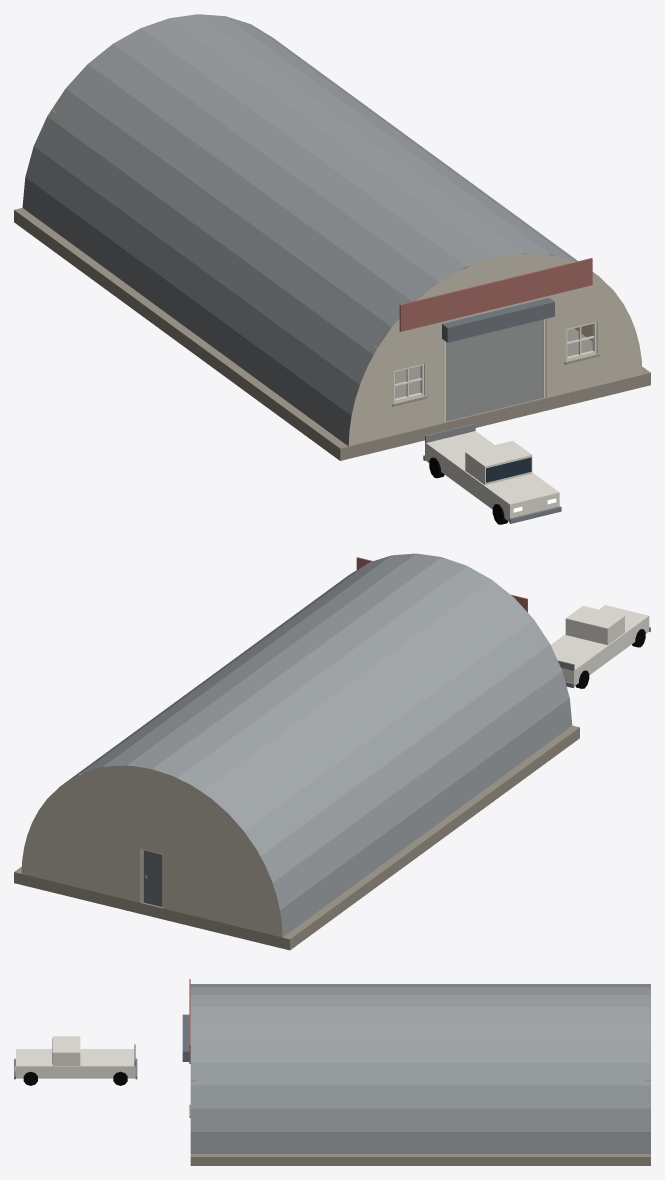
File: quonset.glb
3 renders of one model, top to bottom at view 1: azimuth 30°, elevation 25°; view 2: azimuth 150°, elevation 25°; view 3: azimuth 270°, elevation 25°, orthographic. The views are drawn at different scales.
Parts seen in each view (by area): view 1: LOD0; view 2: LOD0, LEAF0; view 3: LOD0.
Boxes of the visible parts, box(x1,y1,x2,y2) form: LOD0: box(14, 14, 650, 524); LOD0: box(14, 553, 650, 950); LEAF0: box(143, 850, 162, 906); LOD0: box(14, 979, 650, 1165).
Size of what is drawn, in the model's own units: 11 by 5.62 by 27.68.
